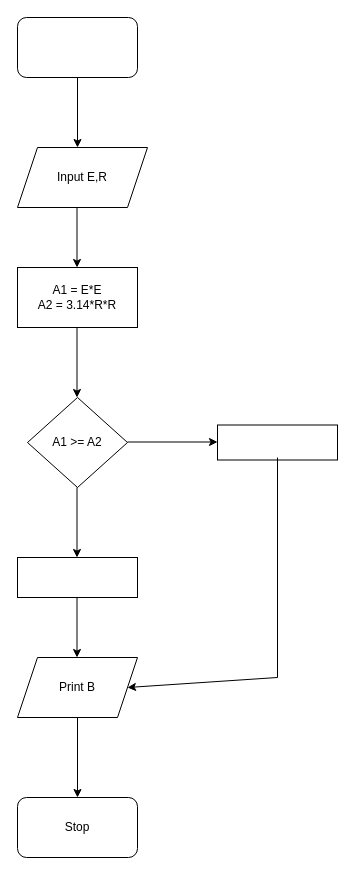
The diagram is 355 pixels wide and 875 high, and some of its shapes have lost their labels. The centre of each missing label's shape, as x and y in pixels:
"B = 0" belongs at [77,577].
"B = R" belongs at [277,442].
"Star" belongs at [77,47].
